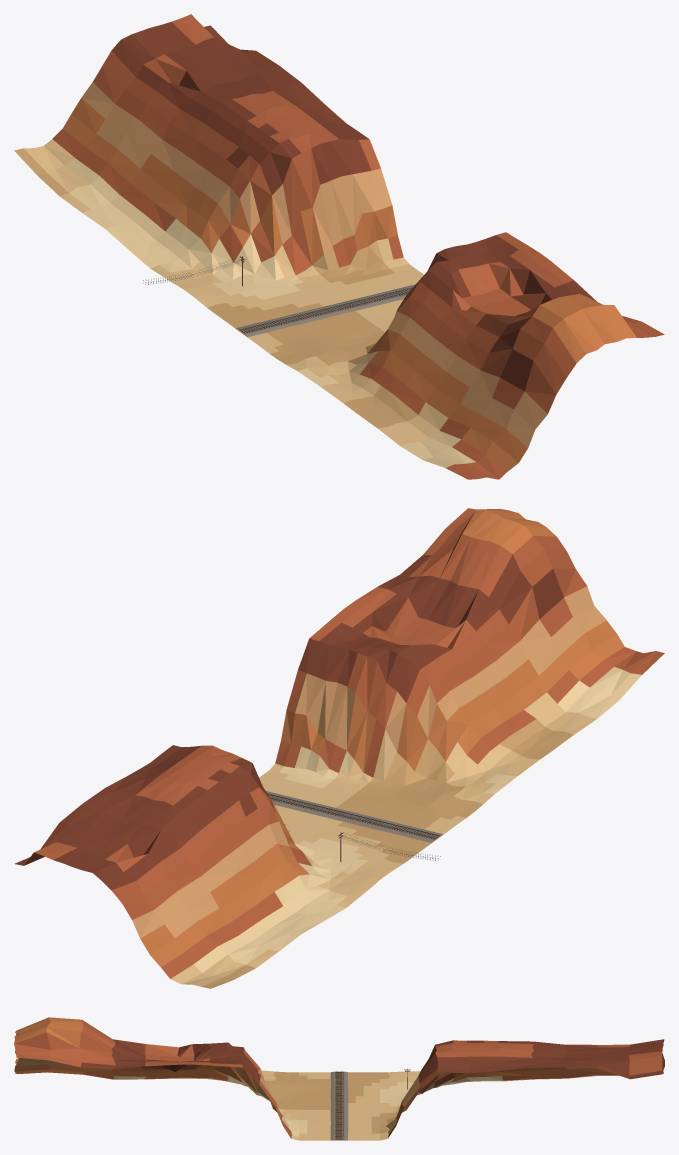
The model's file is SM_FG_Chunk_CanyonDeep_Entry_A.fbx.
The picture shows the model from 3 angles, top to bottom: view 1: azimuth 30°, elevation 25°; view 2: azimuth 150°, elevation 25°; view 3: azimuth 270°, elevation 25°; orthographic projection. The views are drawn at different scales.
Visible parts, largest first — view 1: FG_Chunk_CanyonDeep_Entry_A_Ground, FG_Chunk_CanyonDeep_Entry_A_Track; view 2: FG_Chunk_CanyonDeep_Entry_A_Ground, FG_Chunk_CanyonDeep_Entry_A_Track; view 3: FG_Chunk_CanyonDeep_Entry_A_Ground, FG_Chunk_CanyonDeep_Entry_A_Track.
Part boxes in pixels (<box>): FG_Chunk_CanyonDeep_Entry_A_Ground: <box>14,14,664,479</box>; FG_Chunk_CanyonDeep_Entry_A_Track: <box>235,284,415,337</box>; FG_Chunk_CanyonDeep_Entry_A_Ground: <box>14,508,664,988</box>; FG_Chunk_CanyonDeep_Entry_A_Track: <box>266,791,443,842</box>; FG_Chunk_CanyonDeep_Entry_A_Ground: <box>14,1017,664,1140</box>; FG_Chunk_CanyonDeep_Entry_A_Track: <box>330,1071,348,1140</box>.
Bounding box in the file's own units: 6250 × 20152 × 3453.
